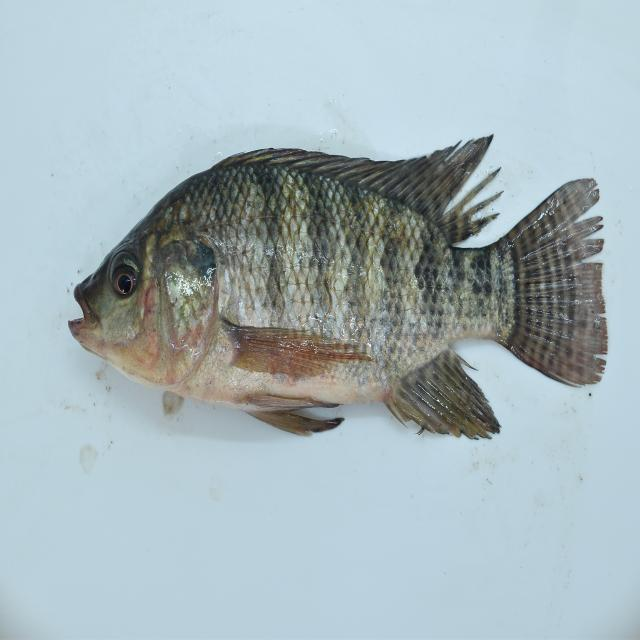Columnaris Disease: (54, 127, 619, 465)
